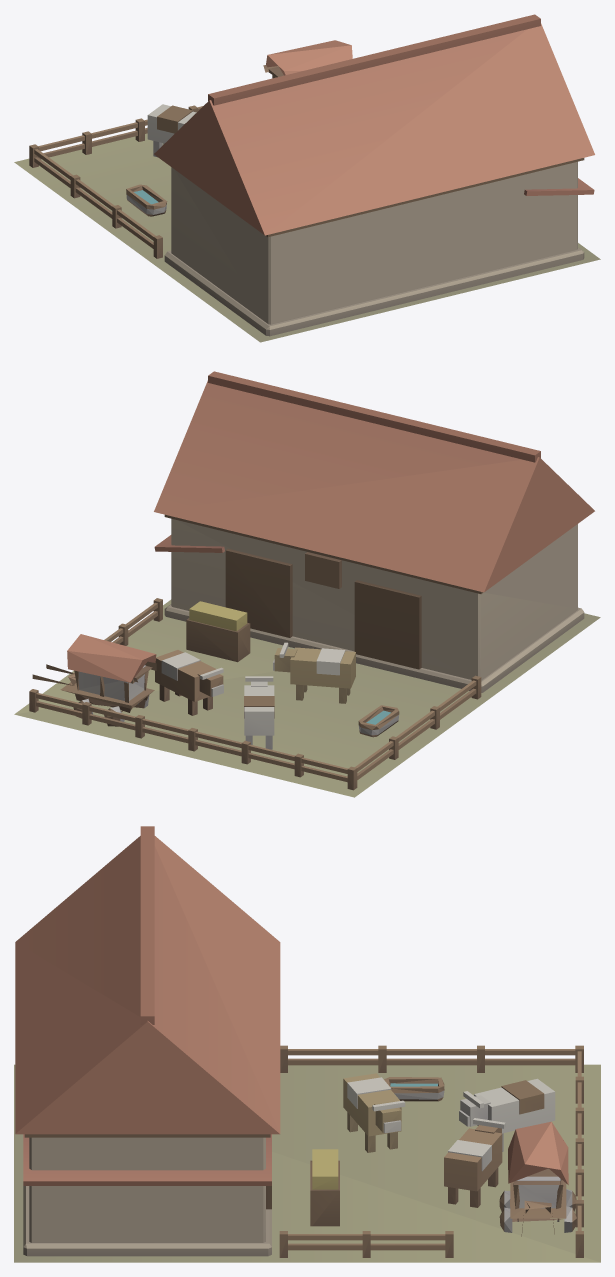
The model's file is cattle_farm.glb.
3 renders of one model, top to bottom at view 1: azimuth 30°, elevation 25°; view 2: azimuth 150°, elevation 25°; view 3: azimuth 270°, elevation 25°, orthographic. The views are drawn at different scales.
Visible parts, largest first — view 1: cattle_farm; view 2: cattle_farm; view 3: cattle_farm.
Boxes of the visible parts, x1,y1,x2,y2 form: cattle_farm: (14, 14, 600, 342); cattle_farm: (14, 371, 600, 797); cattle_farm: (14, 826, 600, 1262).
Bounding box in the file's own units: 3.97 × 2.28 × 4.96.
